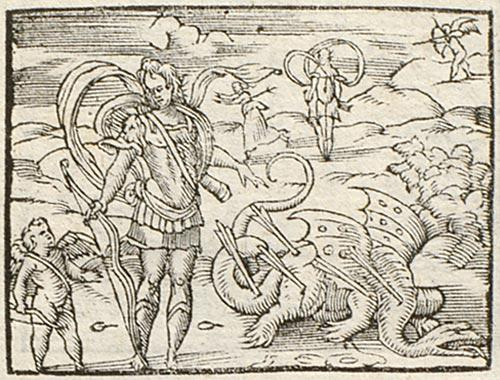angel: (9, 219, 102, 367)
dragon: (211, 155, 488, 360)
